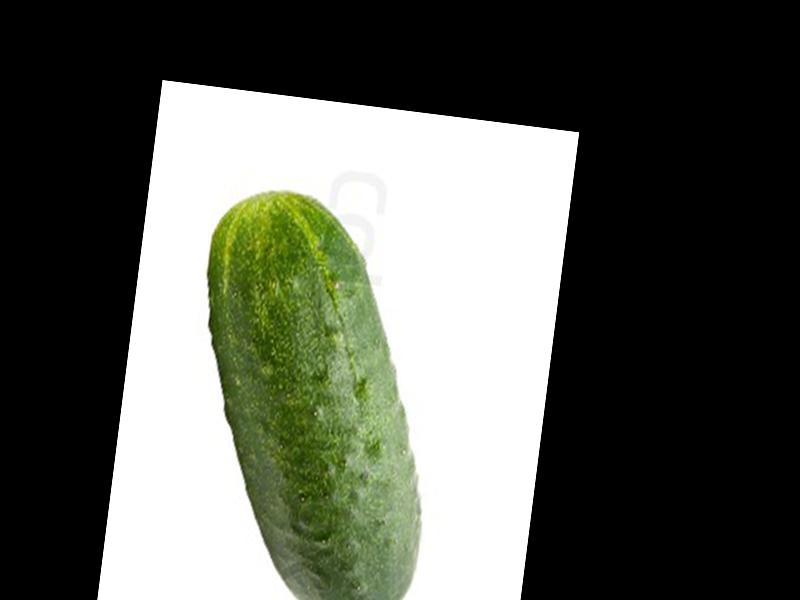Cucumber: (169, 182, 462, 600)
